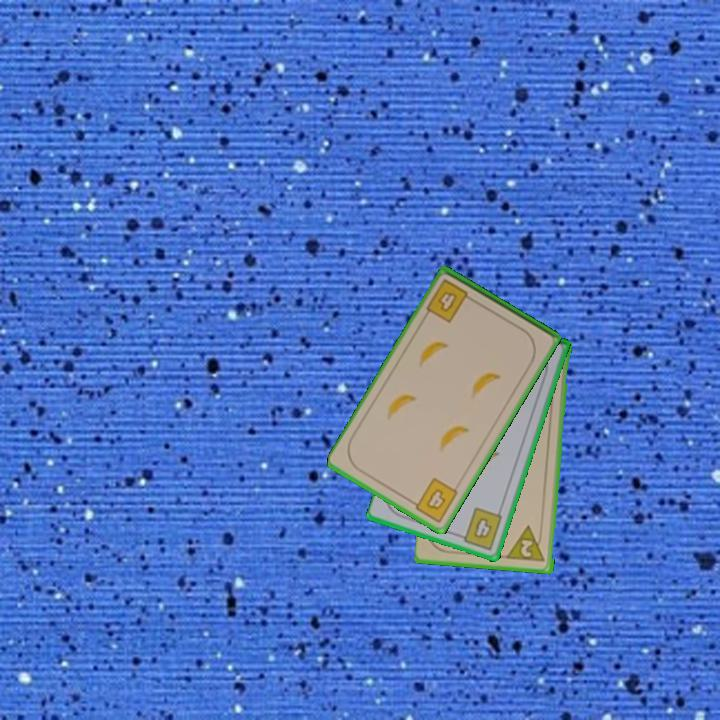2p: (517, 536, 537, 560)
4b: (406, 474, 461, 526), (422, 276, 478, 326), (454, 504, 505, 553)
